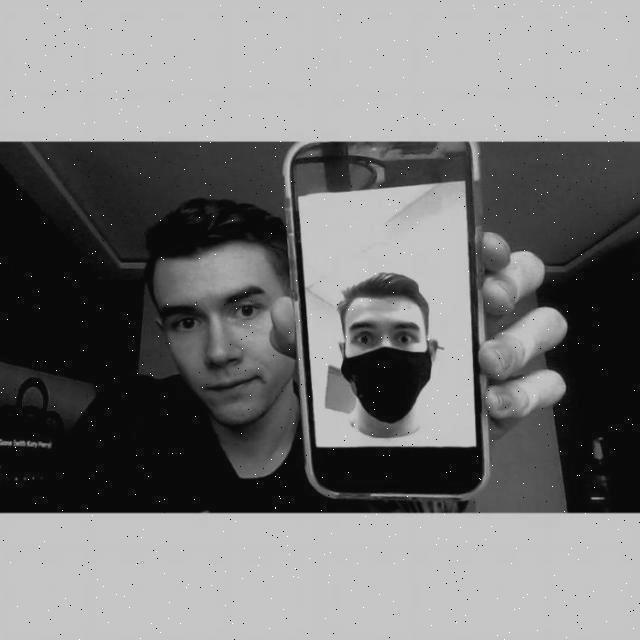fake: (285, 142, 502, 508)
real: (157, 256, 282, 430)
